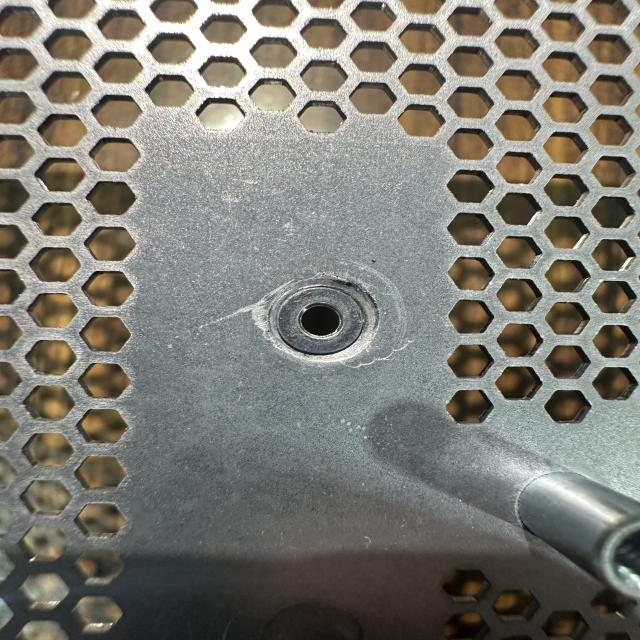Missing screw: (262, 276, 381, 366)
